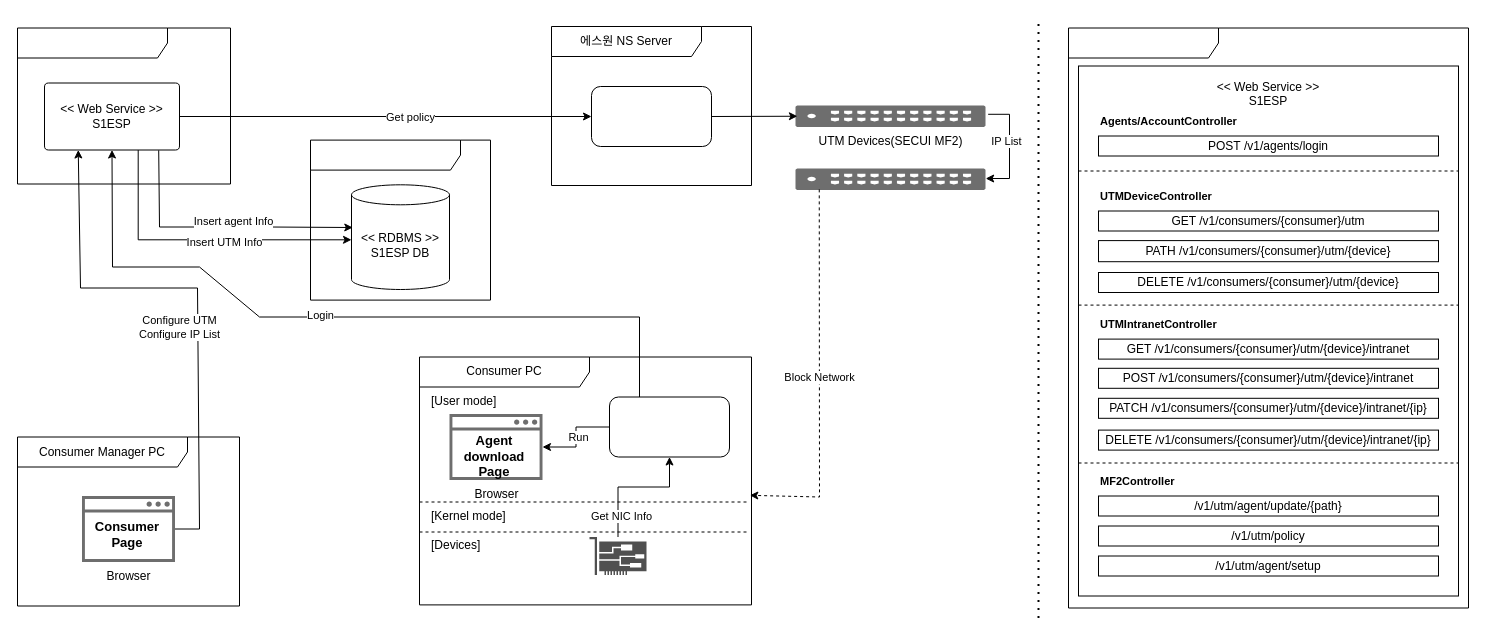
This 1486x637 diagram has some shape labels left out. Each missing label, with the centre of its shape:
"<< Application >> S1ESP Agent" goes at point (669, 426).
"<< Web Service >> 에스원 NS" goes at point (651, 116).
"NAC Devices" goes at point (890, 179).
"Network interface controller" goes at point (617, 555).
"S1ESP API Server" goes at point (123, 105).
"S1ESP DB Server" goes at point (400, 219).
"S1ESP UTM APIs" goes at point (1268, 317).
